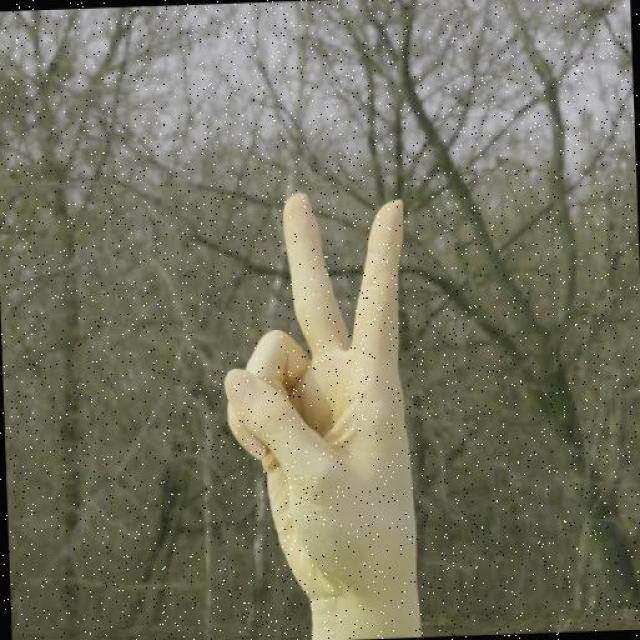V: (211, 181, 425, 640)
